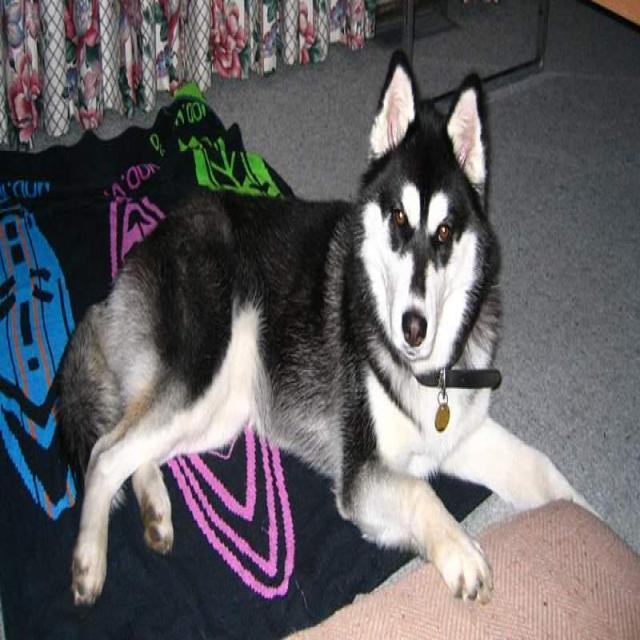adult_dog: (52, 48, 603, 606)
